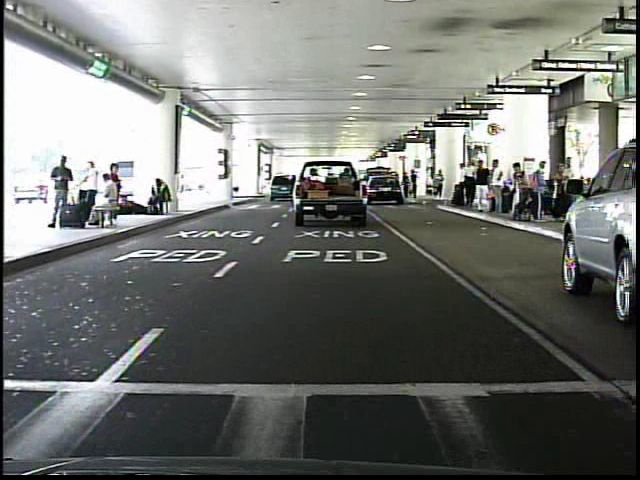person: (50, 153, 77, 231), (470, 157, 494, 221), (489, 159, 508, 219), (454, 158, 474, 211), (434, 166, 450, 206), (401, 170, 412, 203), (410, 170, 420, 204)
